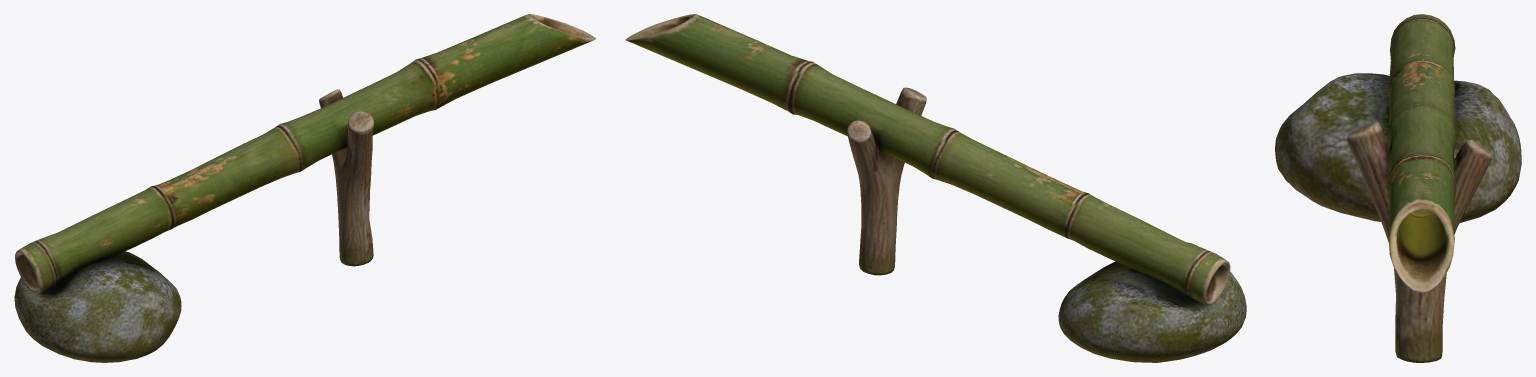
File: bamboo-spout.glb
3 views of the same model, side by side, from view 1: azimuth 30°, elevation 25°; view 2: azimuth 150°, elevation 25°; view 3: azimuth 270°, elevation 25° (orthographic). The views are drawn at different scales.
Visible parts, largest first — view 1: tripo_node_8a6d292d-9400-4967-a756-512f1f963421; view 2: tripo_node_8a6d292d-9400-4967-a756-512f1f963421; view 3: tripo_node_8a6d292d-9400-4967-a756-512f1f963421.
Boxes of the visible parts, x1,y1,x2,y2 form: tripo_node_8a6d292d-9400-4967-a756-512f1f963421: (14, 14, 595, 362); tripo_node_8a6d292d-9400-4967-a756-512f1f963421: (625, 14, 1246, 362); tripo_node_8a6d292d-9400-4967-a756-512f1f963421: (1275, 14, 1521, 362).
Size of the model in its own units: 1.2 by 0.427 by 0.3265.
Materials: 1 (1 with a texture image).
